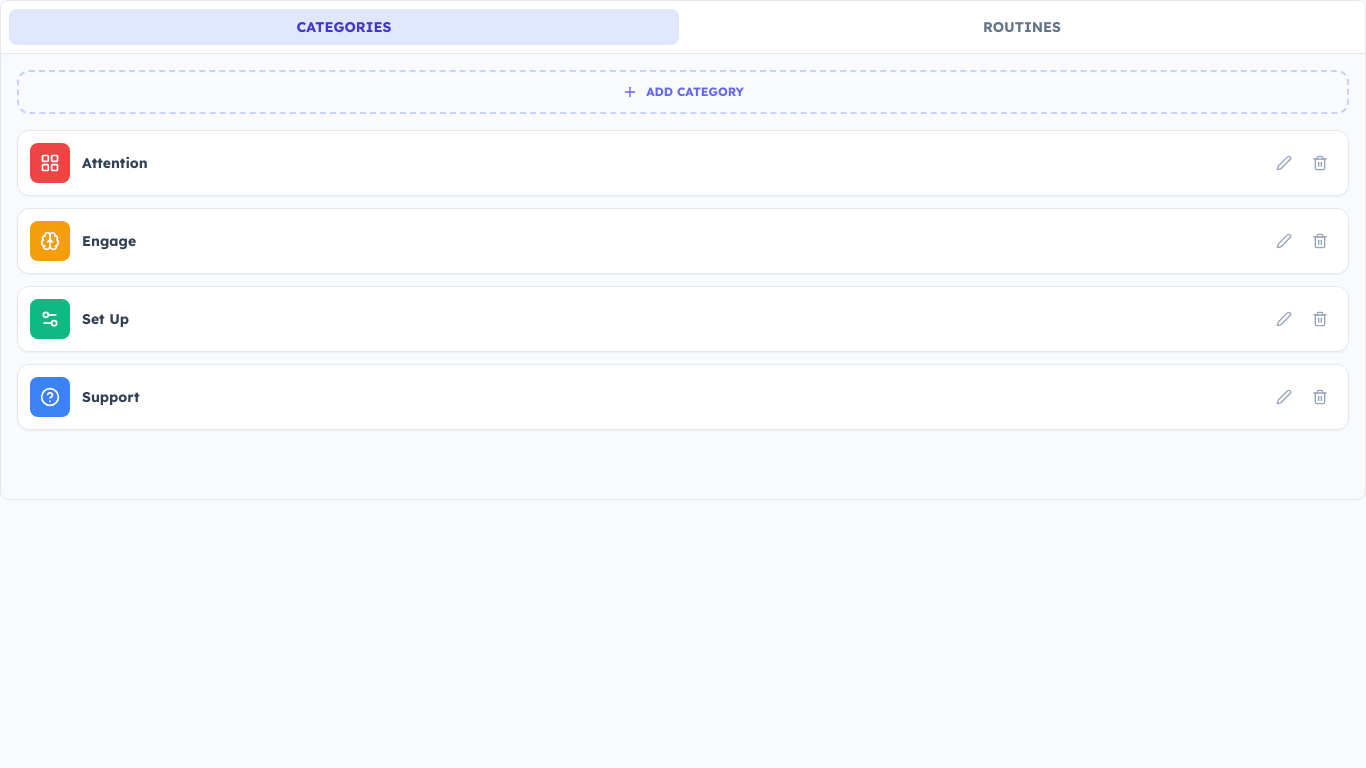
Test: CatalystPermissionEditor › merges default and custom routines correctly
This screenshot has width=1366, height=768.
Click the button "Routines" at (1022, 27), box top-left (687, 9), bottom-right (1357, 45)
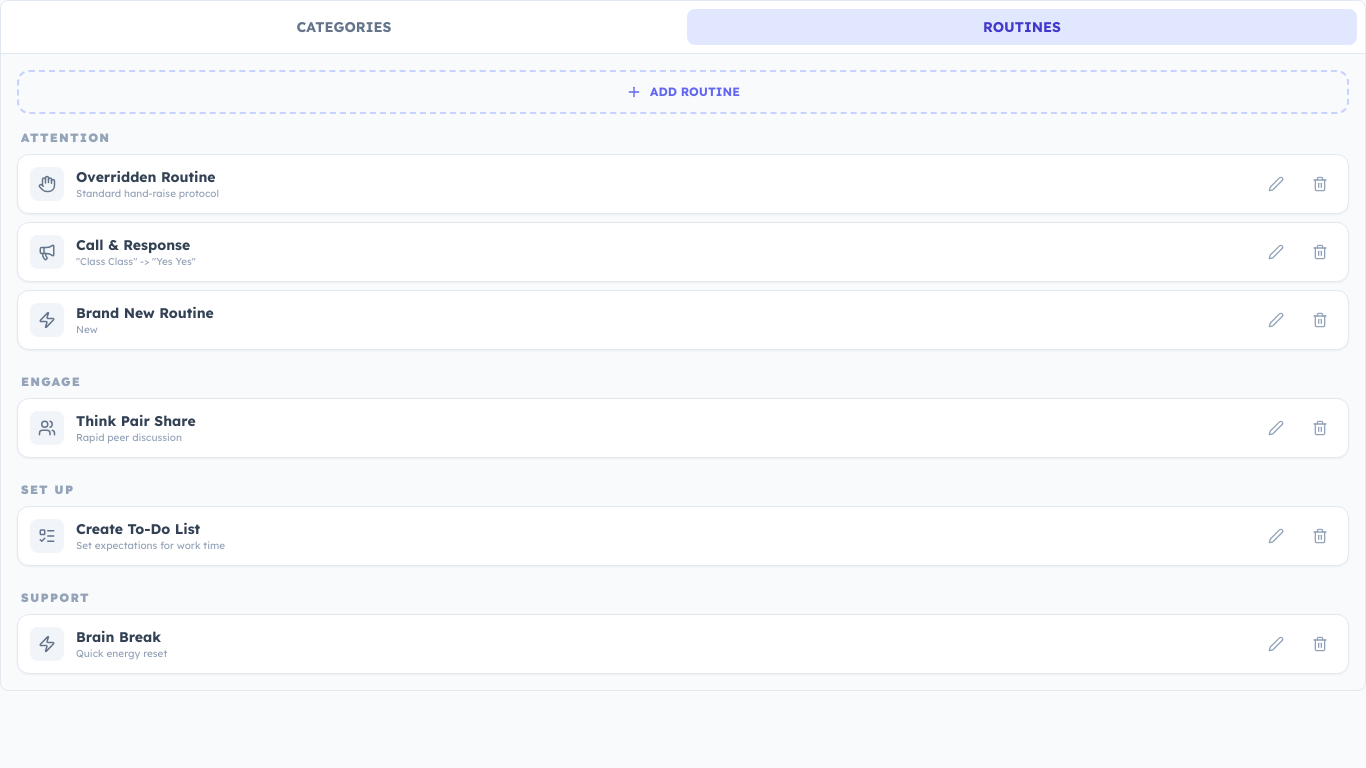
Expected: the text "Overridden Routine" is shown, top-left (76, 168), bottom-right (216, 186)
Expected: the text "Brand New Routine" is shown, top-left (76, 304), bottom-right (214, 322)
